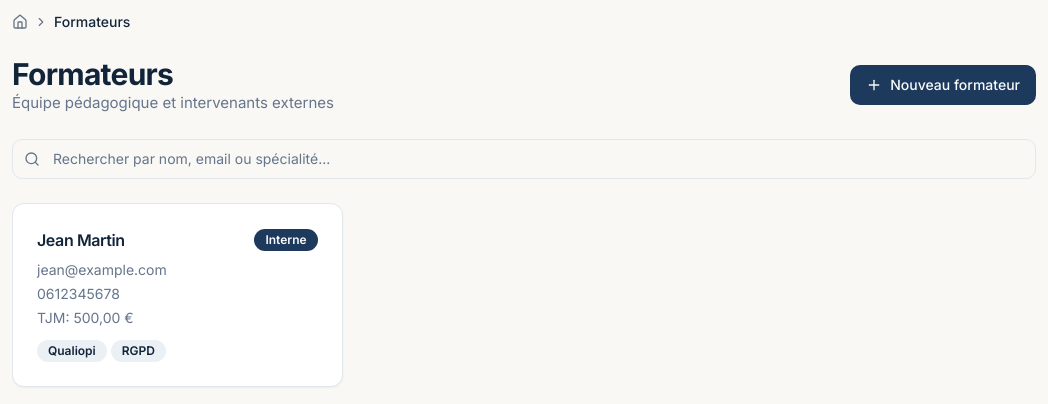
TrainersListPage › shows "aucun résultat" when search filters everything out
The width and height of the screenshot is (1048, 404).
Type "zzz" into the field with placeholder "Rechercher par nom, email ou spécialité..." at coordinates (524, 158), box top-left (12, 138), bottom-right (1036, 178)
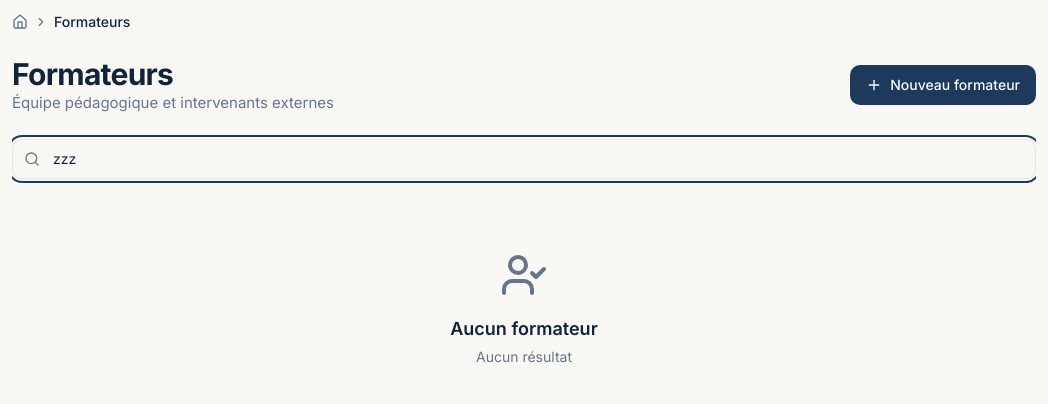
expect the heading "Aucun formateur" is shown: met, box top-left (450, 314), bottom-right (598, 342)
expect the text "Aucun résultat" is shown: met, box top-left (476, 346), bottom-right (572, 366)
